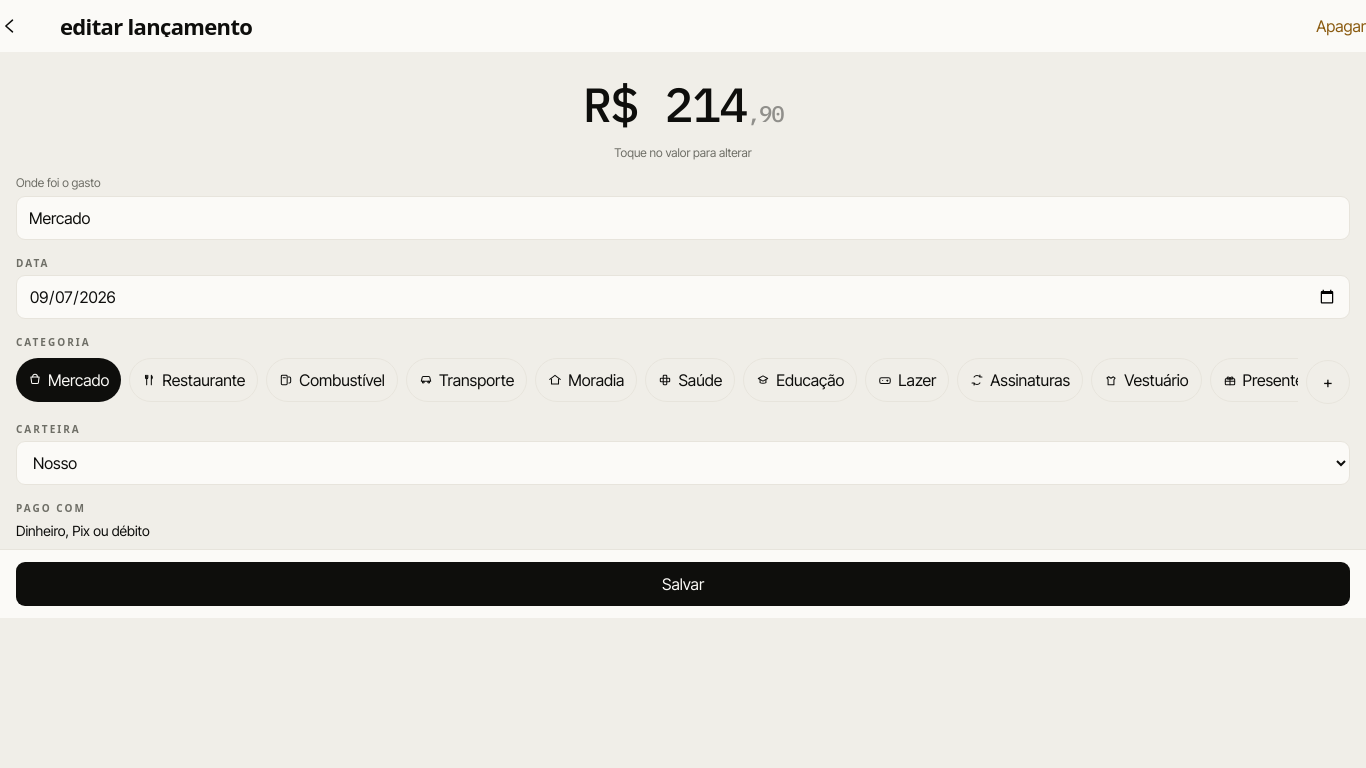
Test case: EditarLancamento › abre o teclado só depois de tocar no valor
Click the button named "Editar valor": (683, 104) [16,68,1350,140]
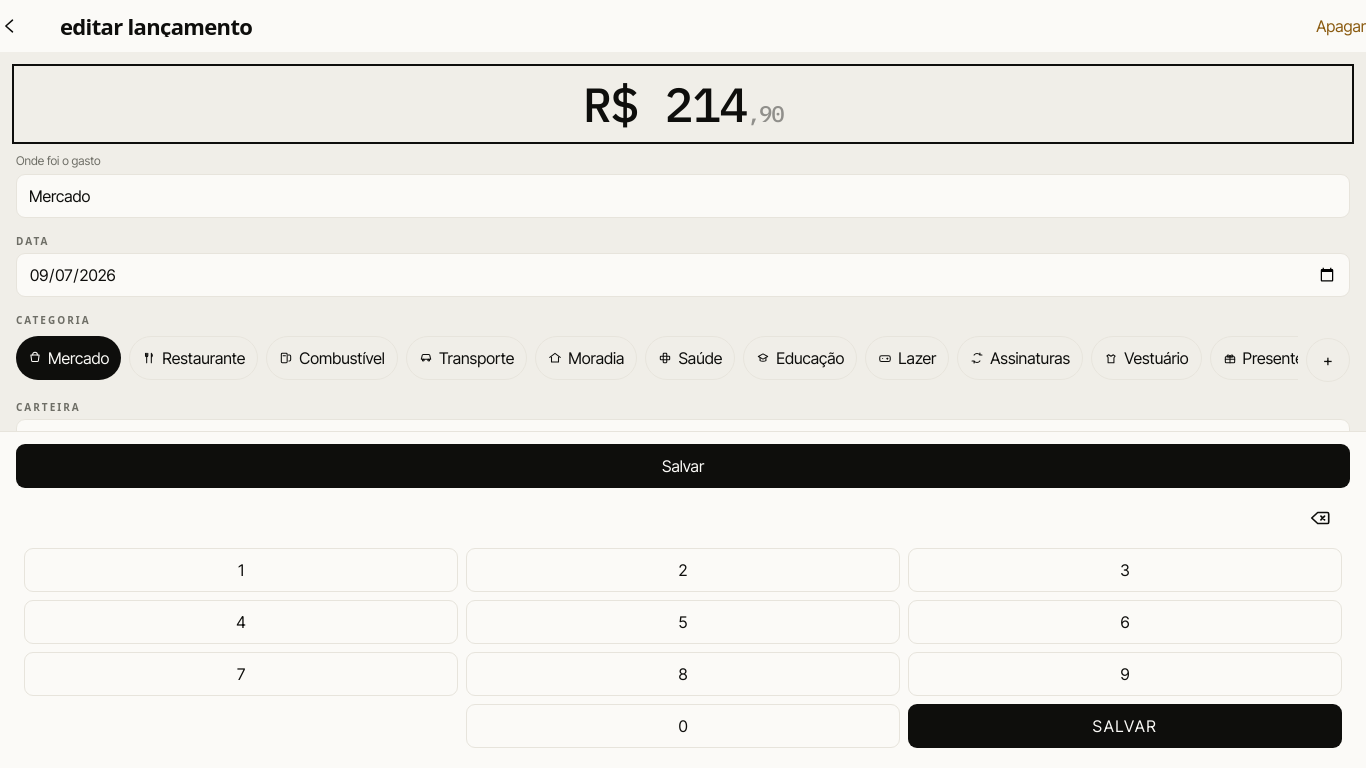
expect the button with aria-label "Apagar lançamento" is shown: met, box [1316,4,1365,48]
expect the button named "Apagar último dígito" is shown: met, box [1298,496,1342,540]
